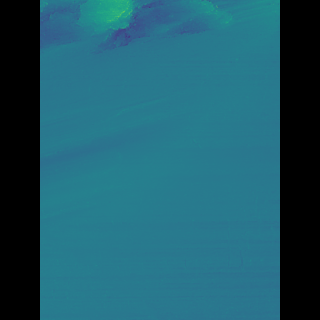Loch: (69, 0, 227, 58)
